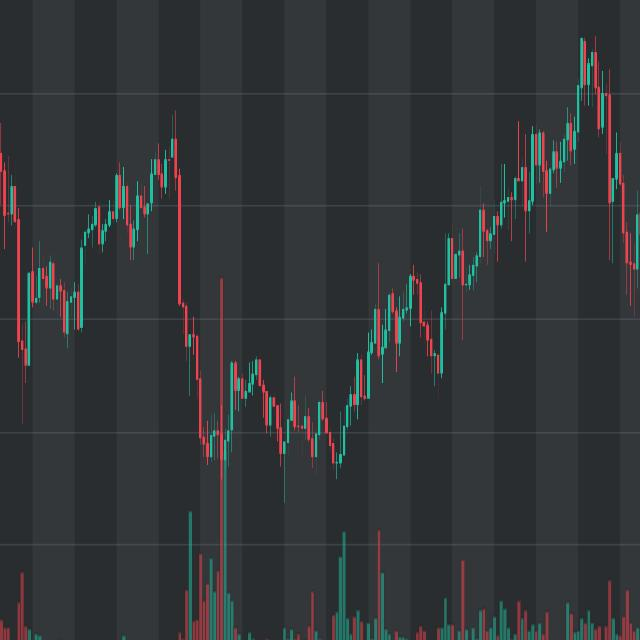Channel-up: (320, 7, 601, 518), (74, 108, 184, 304)
